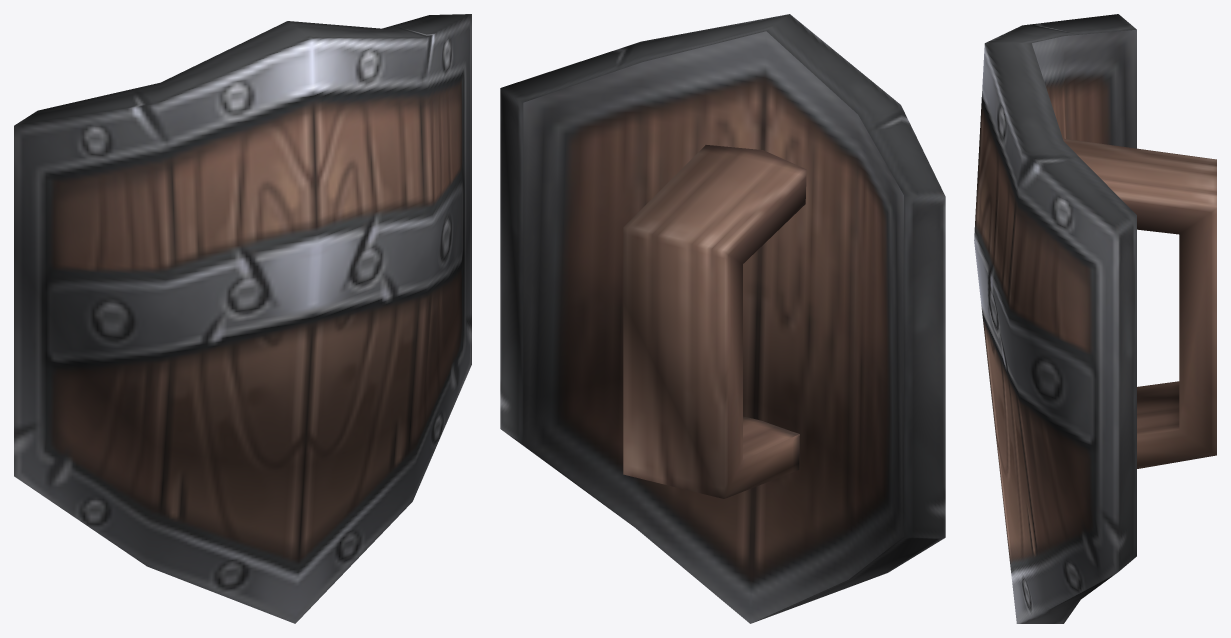
The model's file is Wp_Shield_00.FBX.
The picture shows the model from 3 angles, left to right: view 1: azimuth 30°, elevation 25°; view 2: azimuth 150°, elevation 25°; view 3: azimuth 270°, elevation 25°; orthographic projection. The views are drawn at different scales.
Visible parts, largest first — view 1: Wp_Shield_00; view 2: Wp_Shield_00; view 3: Wp_Shield_00.
Boxes of the visible parts, box(x1,y1,x2,y2) form: Wp_Shield_00: box(14, 14, 471, 623); Wp_Shield_00: box(500, 14, 945, 623); Wp_Shield_00: box(974, 14, 1216, 623).
Size of the model in its own units: 62.36 by 77.75 by 29.46.
